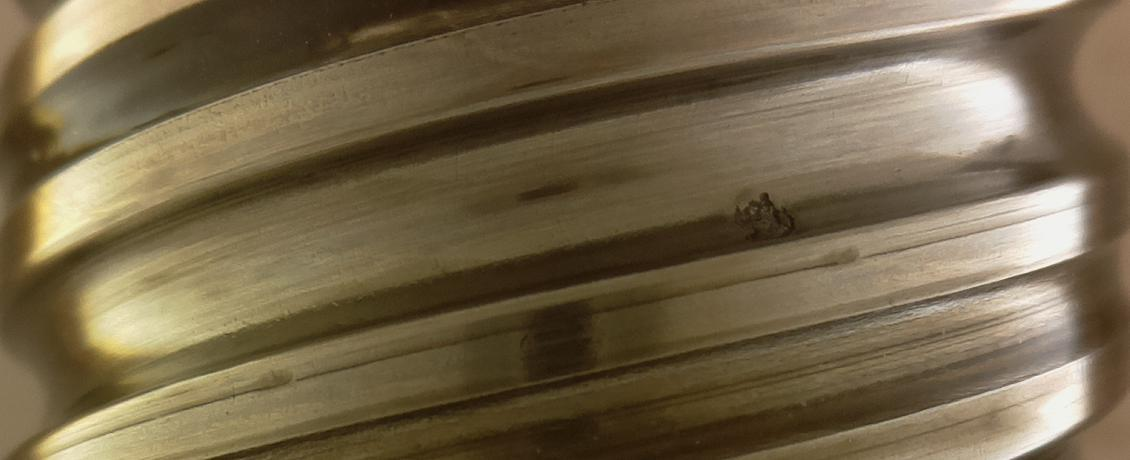pitting: (735, 191, 795, 241)
